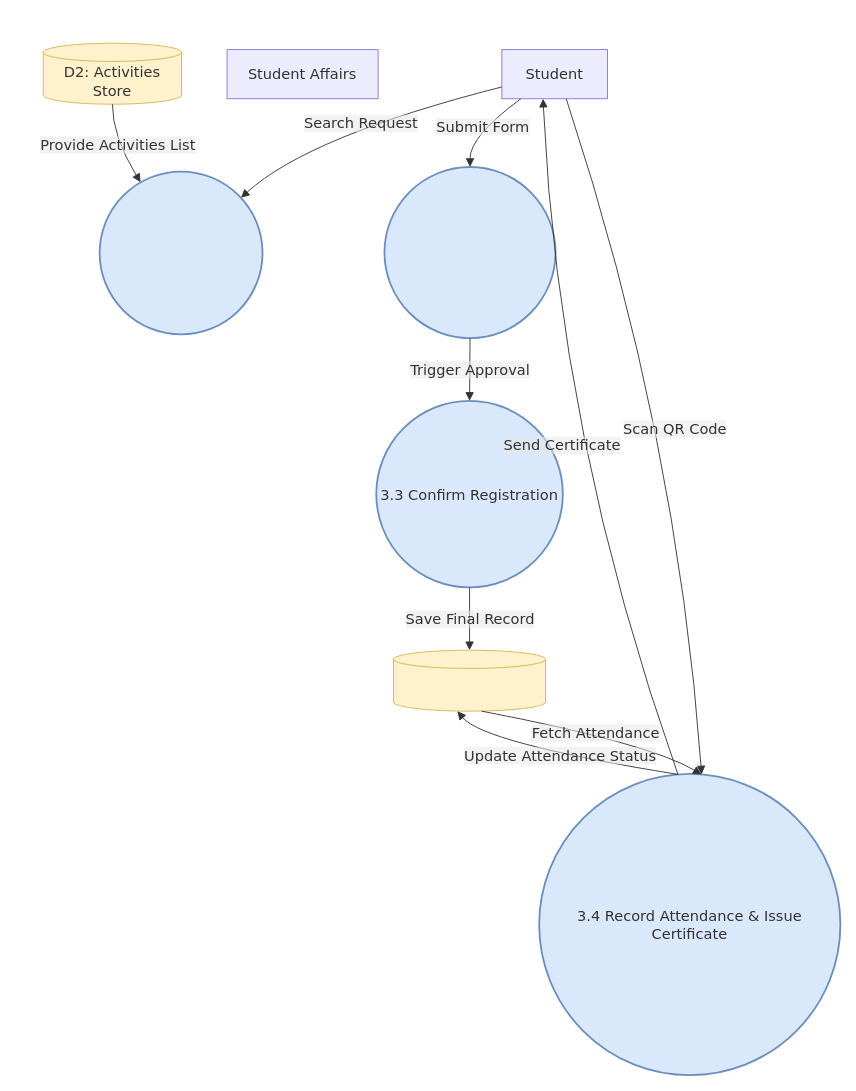
This 856x1091 diagram has some shape labels left out. The centre of each missing label's shape, as x and y in pixels:
"3.1 Browse Activities" goes at [180,252].
"3.2 Validate Eligibility" goes at [469,252].
"D3: Enrolments Store" goes at [469,680].
